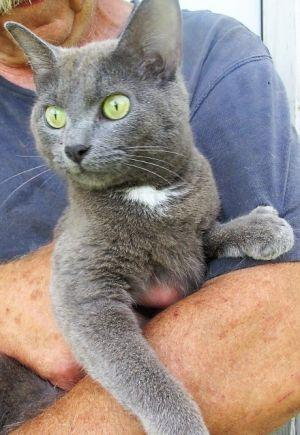rblue: (1, 5, 209, 217)
